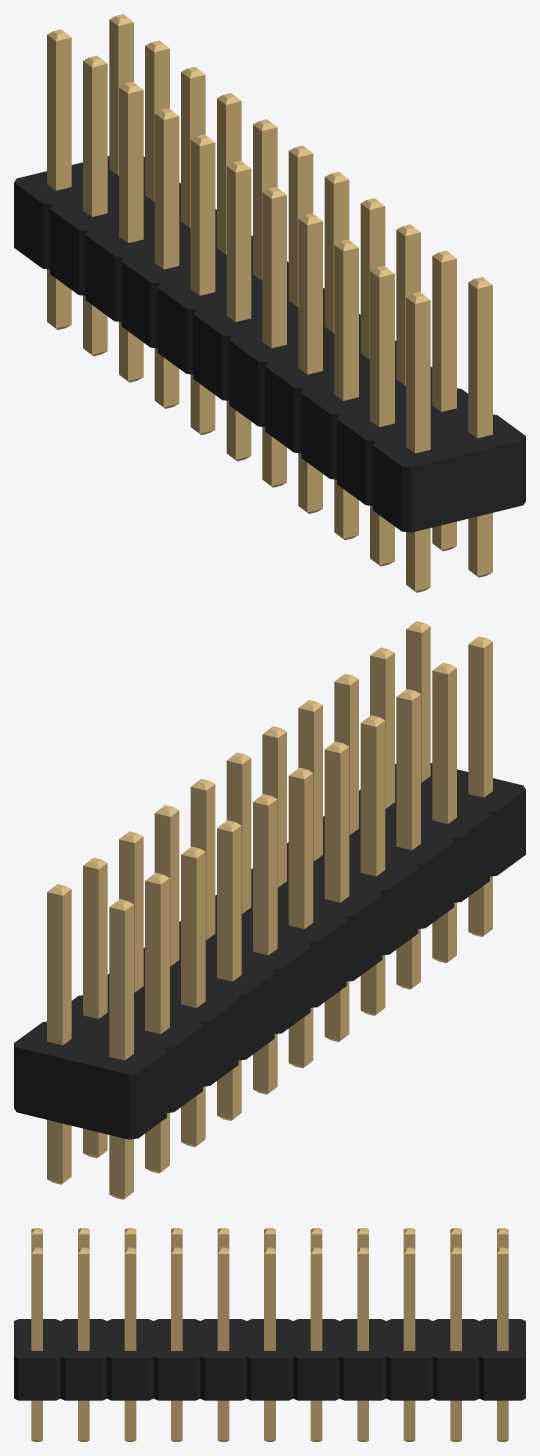
The model's file is kc-pinheader_2x11_p2.54mm_vertical.glb.
The picture shows the model from 3 angles, top to bottom: view 1: azimuth 30°, elevation 25°; view 2: azimuth 150°, elevation 25°; view 3: azimuth 270°, elevation 25°; orthographic projection. The views are drawn at different scales.
Parts seen in each view (by area): view 1: 0.75_0.5_0.25_0.9, 0_0_0_0; view 2: 0.75_0.5_0.25_0.9, 0_0_0_0; view 3: 0_0_0_0, 0.75_0.5_0.25_0.9.
Part boxes in pixels (x1,y1,x2,y2): 0.75_0.5_0.25_0.9: (47, 14, 492, 592); 0_0_0_0: (14, 156, 525, 532); 0.75_0.5_0.25_0.9: (47, 621, 492, 1199); 0_0_0_0: (14, 763, 525, 1139); 0_0_0_0: (14, 1319, 525, 1400); 0.75_0.5_0.25_0.9: (31, 1228, 508, 1441).
Bounding box in the file's own units: 0.5079 × 1.15 × 2.79.
